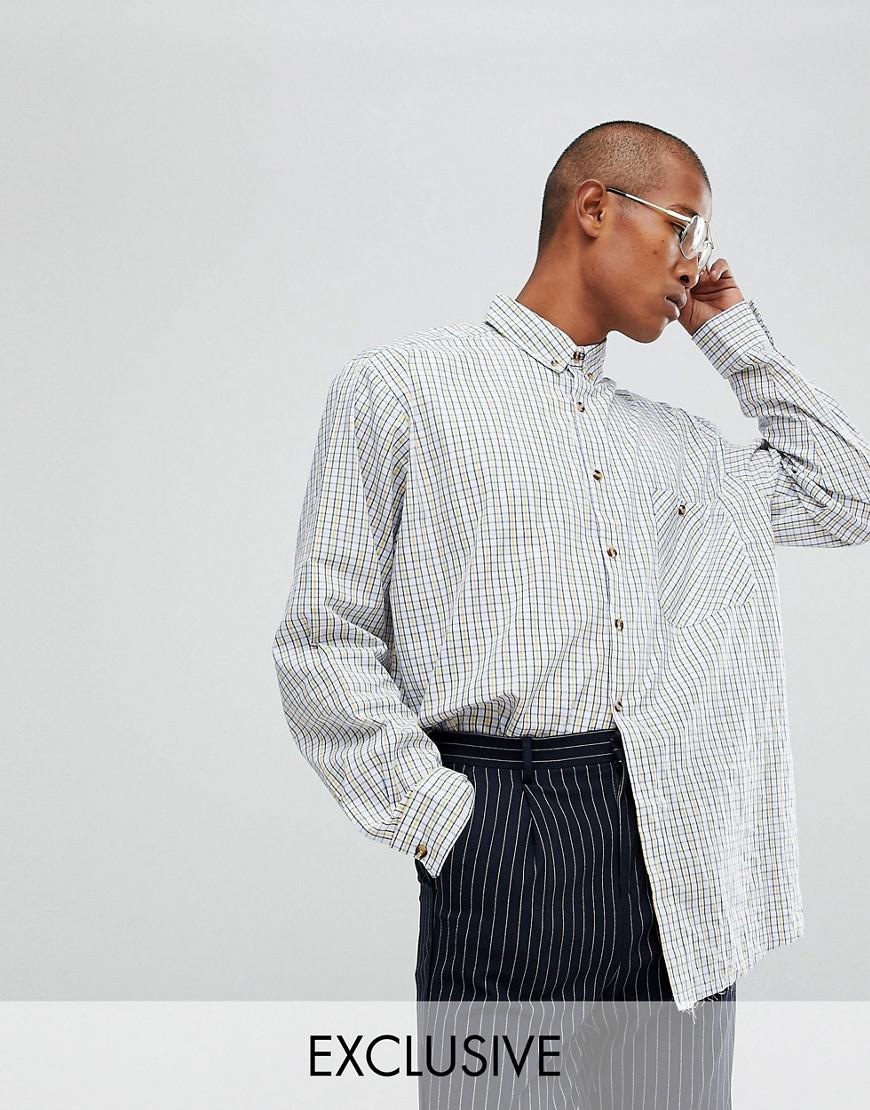teeshirt: (291, 291, 832, 1001)
